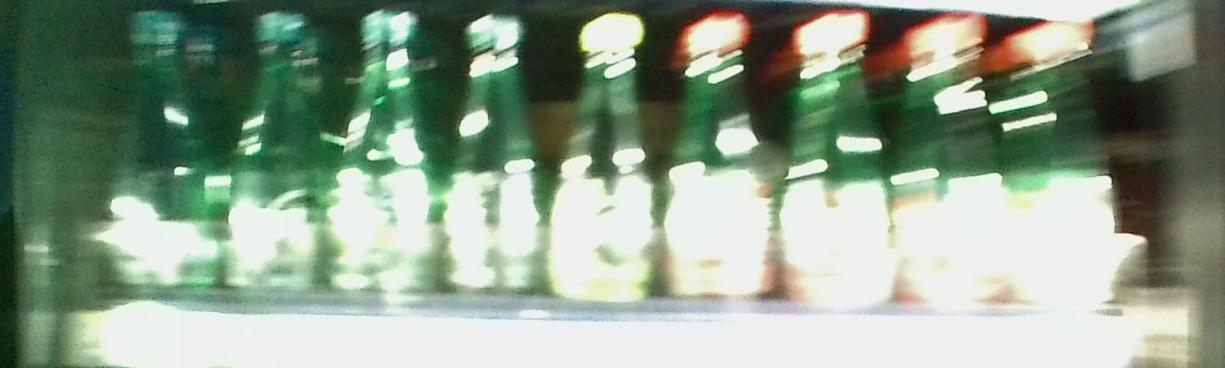bottle: (783, 16, 892, 298), (1005, 27, 1111, 307), (336, 6, 437, 296), (110, 6, 211, 290), (664, 16, 769, 289), (555, 8, 653, 300), (445, 15, 545, 294), (222, 8, 315, 296), (901, 26, 995, 310)
